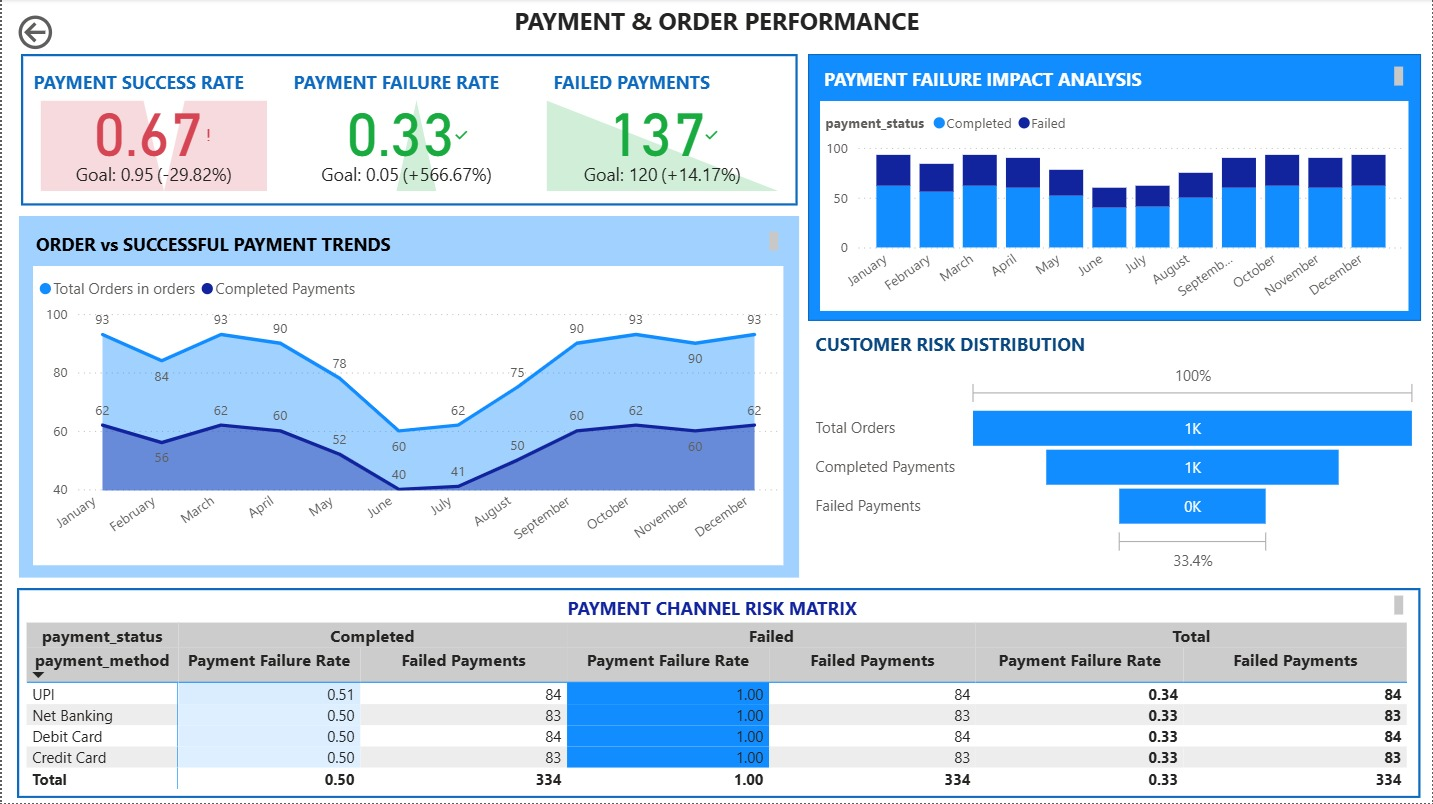

This screenshot's page, from the dashboard's own definition file:
{"tool":"powerbi","page":{"name":"PAYMENT & ORDER PERFORMANCE","canvas":[1280,720],"ordinal":3},"visuals":[{"type":"shape","box":[17,49.3,695.5,135.7],"z":0},{"type":"shape","box":[15.4,194.3,698.6,323.9],"z":1000},{"type":"shape","box":[721.7,49.3,549,239],"z":2000},{"type":"textbox","box":[0,0,1280,40.9],"z":3000},{"type":"kpi","fields":{"Indicator":["payments.Payment Success Rates"],"Goal":["payments.PaymentS Success Target"],"TrendLine":["orders.order_date.Variation.Date Hierarchy.Month"]},"box":[29.3,86.4,212.8,91],"z":4000},{"type":"funnel","fields":{"Category":["Funnel Stages.Stage"],"Y":["payments.Funnel Value"]},"box":[723.4,320.3,549,197.4],"z":5000},{"type":"lineChart","fields":{"Category":["orders.order_date.Variation.Date Hierarchy.Month"],"Y":["orders.Total Orders in orders","payments.Completed Payments"]},"box":[27.8,239,672.4,268.3],"z":6000},{"type":"columnChart","fields":{"Category":["orders.order_date.Variation.Date Hierarchy.Month"],"Y":["CountNonNull(payments.payment_id)"],"Series":["payments.payment_status"]},"box":[732.5,91,527.4,188.1],"z":7000},{"type":"textbox","box":[23.1,58.6,219,30.8],"z":8000},{"type":"kpi","fields":{"Indicator":["payments.Payment Failure Rate"],"Goal":["payments.Payment Failure Target"],"TrendLine":["orders.order_date.Variation.Date Hierarchy.Month"]},"box":[259.9,86.4,205.1,91],"z":9000},{"type":"kpi","fields":{"Indicator":["payments.Failed Payments"],"Goal":["payments.Failed Payments PM"],"TrendLine":["orders.order_date.Variation.Date Hierarchy.Year"]},"box":[482.7,86.4,217.4,91],"z":10000},{"type":"actionButton","box":[10,10,100,40],"z":11000},{"type":"textbox","box":[488.9,58.6,205.1,30.8],"z":12000},{"type":"textbox","box":[24.7,203.6,675.5,27.8],"z":13000},{"type":"textbox","box":[723.4,292.5,357.8,35.5],"z":14000},{"type":"textbox","box":[731,55.5,529,27.8],"z":15000},{"type":"pivotTable","fields":{"Rows":["payments.payment_method"],"Values":["payments.Payment Failure Rate","payments.Failed Payments"],"Columns":["payments.payment_status"]},"box":[17,553.6,1253.8,161.9],"z":16000},{"type":"textbox","box":[18.5,529,1241.4,29.3],"z":17000},{"type":"textbox","box":[256,58.6,219,30.8],"z":18000},{"type":"shape","box":[13.9,527.4,1256.9,188.1],"z":19000}]}

Visuals, with their boxes in screenshot pixels (x1, y1, x2, y2), scaled from the page's 1280x720 canvas onto the 1433x804 screenshot:
shape: detection(19, 55, 798, 207)
shape: detection(17, 217, 799, 579)
shape: detection(808, 55, 1423, 322)
textbox: detection(0, 0, 1432, 46)
kpi - payments.Payment Success Rates x payments.PaymentS Success Target: detection(33, 96, 271, 198)
funnel - Funnel Stages.Stage x payments.Funnel Value: detection(810, 358, 1424, 578)
lineChart - orders.order_date.Variation.Date Hierarchy.Month x orders.Total Orders in orders: detection(31, 267, 784, 566)
columnChart - orders.order_date.Variation.Date Hierarchy.Month x CountNonNull(payments.payment_id): detection(820, 102, 1410, 312)
textbox: detection(26, 65, 271, 100)
kpi - payments.Payment Failure Rate x payments.Payment Failure Target: detection(291, 96, 521, 198)
kpi - payments.Failed Payments x payments.Failed Payments PM: detection(540, 96, 784, 198)
actionButton: detection(11, 11, 123, 56)
textbox: detection(547, 65, 777, 100)
textbox: detection(28, 227, 784, 258)
textbox: detection(810, 327, 1210, 366)
textbox: detection(818, 62, 1411, 93)
pivotTable - payments.payment_method x payments.Payment Failure Rate: detection(19, 618, 1423, 799)
textbox: detection(21, 591, 1410, 623)
textbox: detection(287, 65, 532, 100)
shape: detection(16, 589, 1423, 799)
